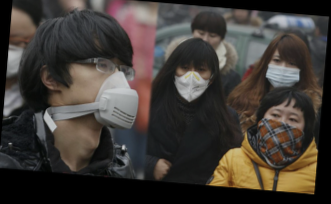with_mask: (49, 47, 140, 133), (253, 106, 305, 164), (171, 60, 213, 104), (265, 53, 301, 88), (7, 30, 28, 83)
without_mask: (189, 29, 222, 51)
